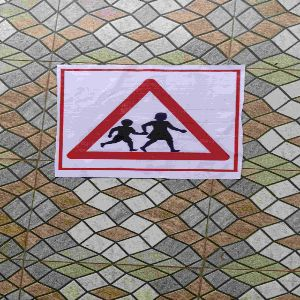schools: (59, 73, 238, 172)
